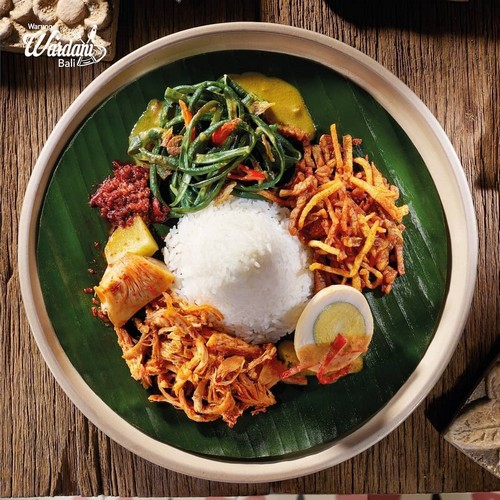nasi campur bali: (108, 113, 393, 401)
